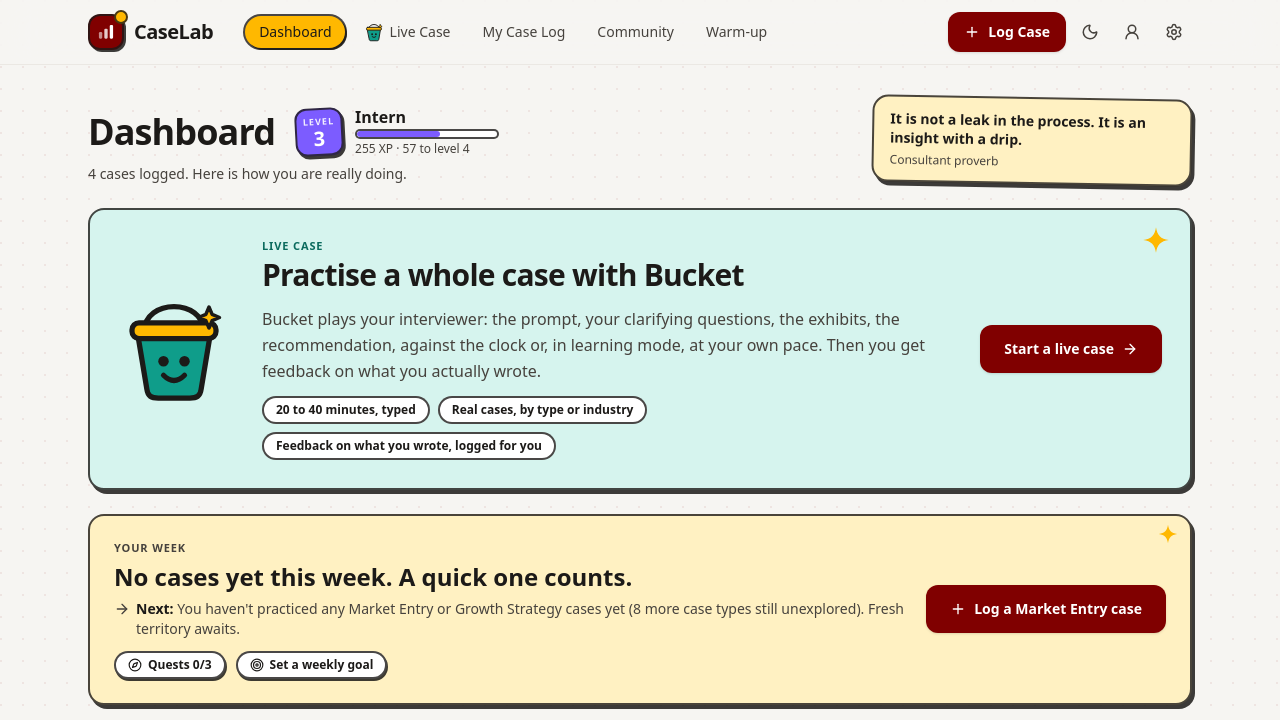
Test: quests, medals and the sticker book › shows the three quests of the week with how far each one is, and what they are worth
Expected: the heading "Dashboard" is shown, [88, 112, 275, 152]
Click the button with aria-label "Your level: level".
click(401, 132)  # box [291, 104, 511, 160]
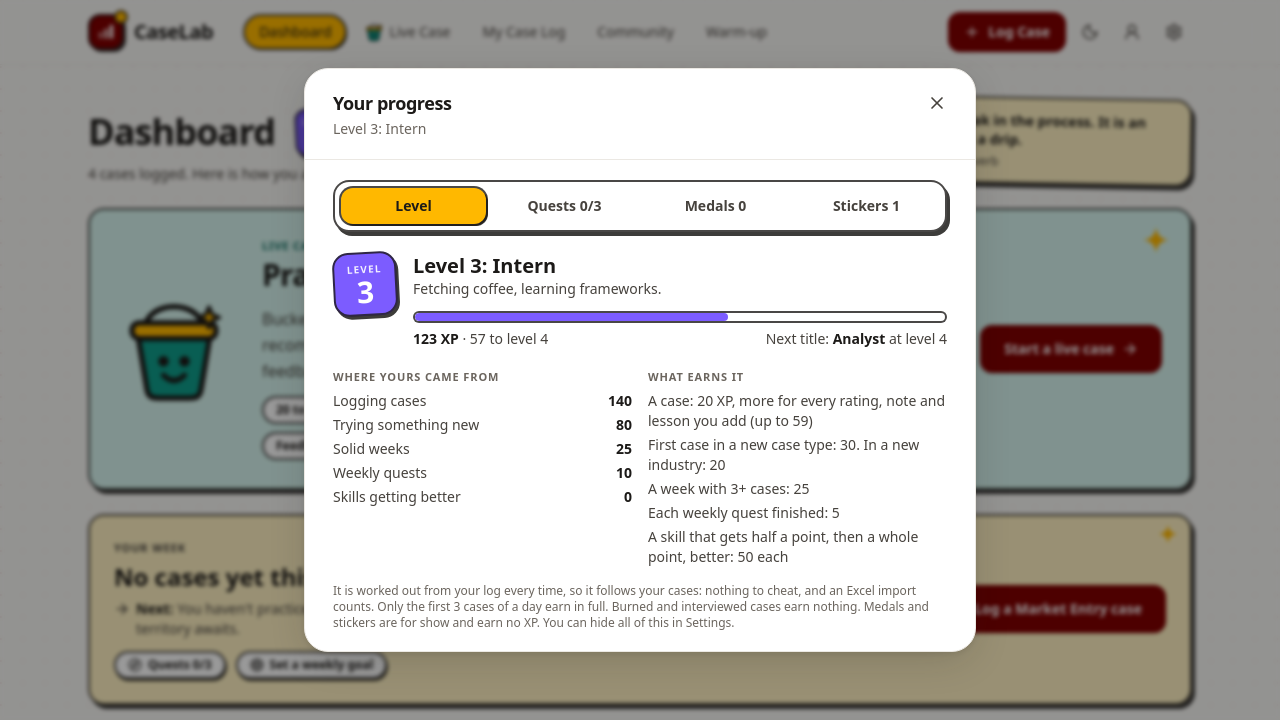
Click the tab "Quests 0/3".
click(564, 206)  # box [492, 188, 637, 224]
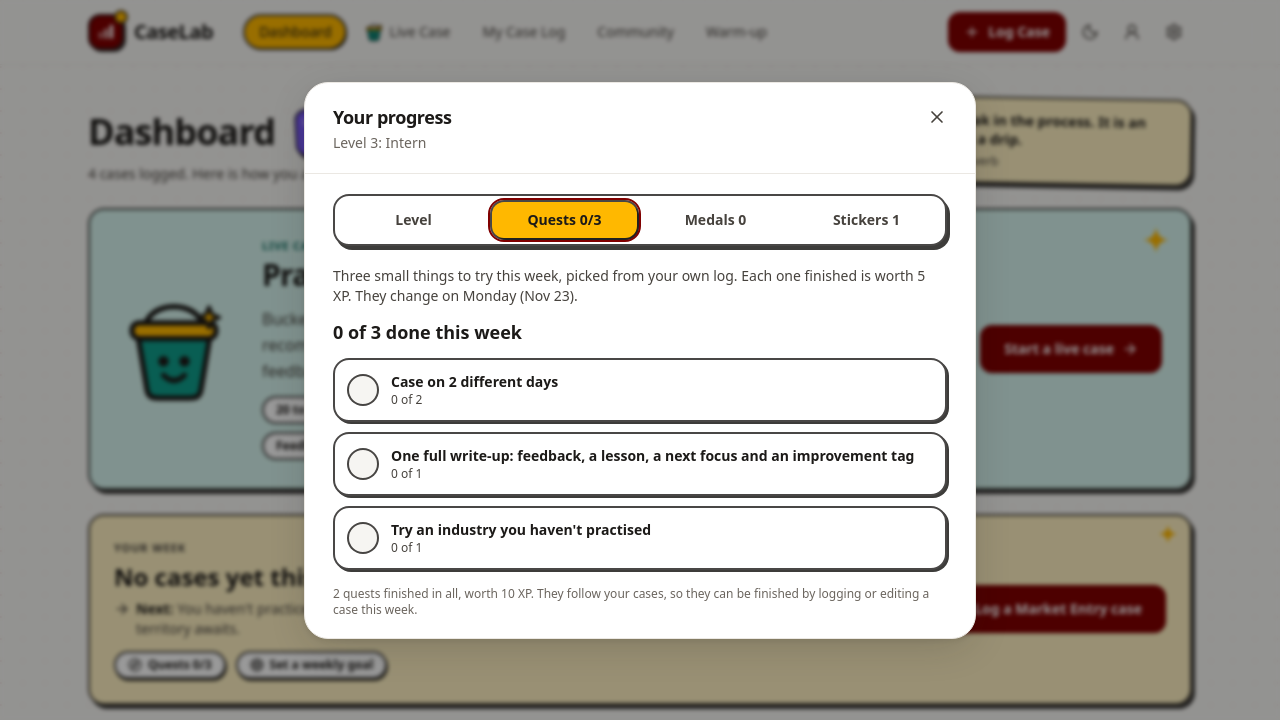
Result: the text "worth 5 XP" is shown at [333, 266, 947, 306]
Result: the text "0 of 3 done this week" is shown at [333, 320, 522, 344]
